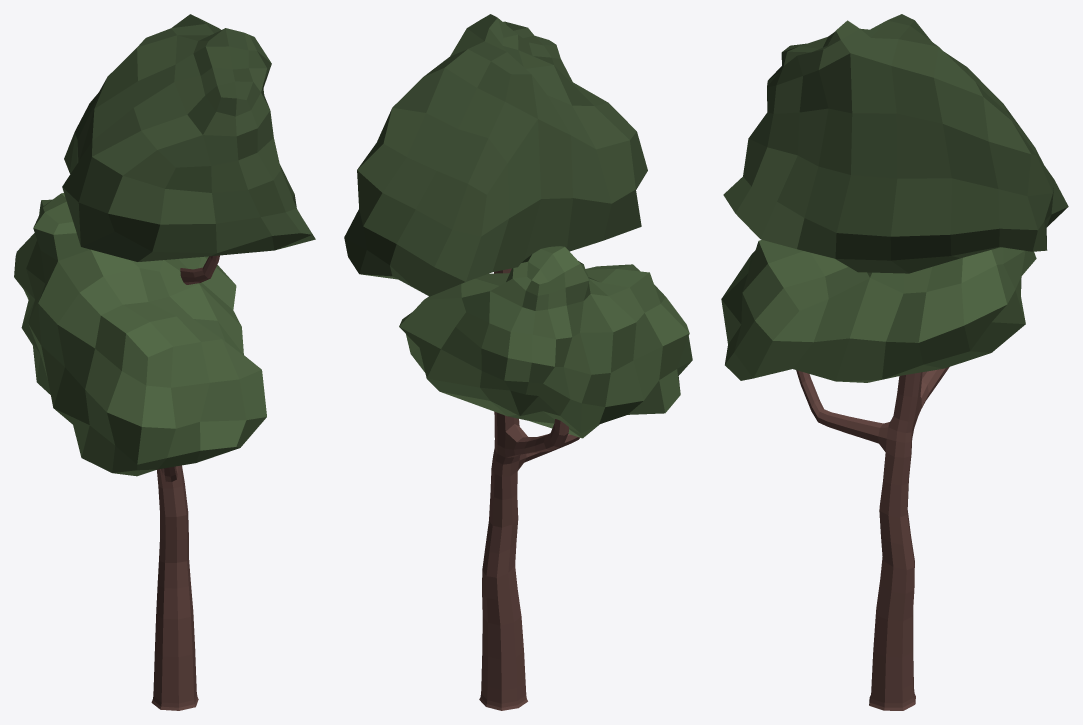
3 renders of one model, left to right at view 1: azimuth 30°, elevation 25°; view 2: azimuth 150°, elevation 25°; view 3: azimuth 270°, elevation 25°, orthographic. The views are drawn at different scales.
Parts seen in each view (by area): view 1: CommonTree_3; view 2: CommonTree_3; view 3: CommonTree_3.
Part boxes in pixels (x1,y1,x2,y2): CommonTree_3: (14, 14, 315, 710); CommonTree_3: (344, 14, 692, 710); CommonTree_3: (721, 14, 1068, 710).
Size of the model in its own units: 1.28 by 3.46 by 1.56.
